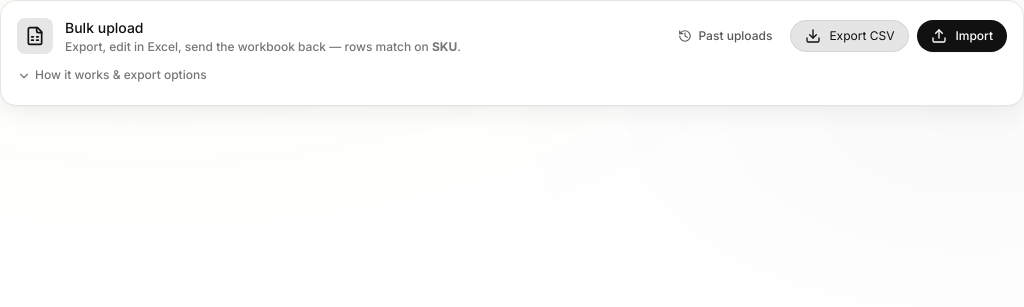
Test: Bulk product upload › says out loud that a blank cell does not clear a field
Step 1. Click the button "How it works & export options" → (112, 76), box [17,68,207,84]
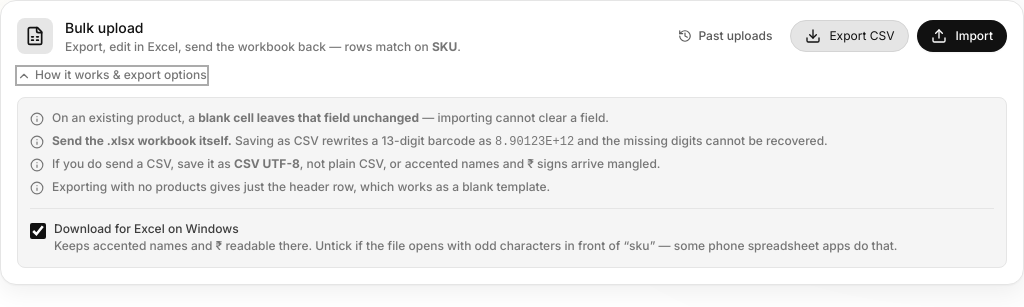
Expected: the text "blank cell leaves that field unchanged" is shown, [198,110,419,125]
